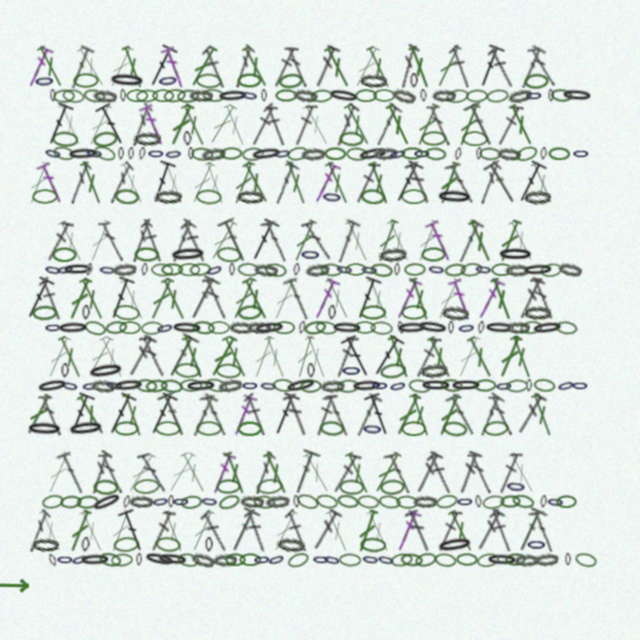chain: (90, 490, 124, 514), (87, 361, 125, 381), (436, 535, 474, 555), (67, 419, 105, 438), (108, 72, 146, 89), (169, 246, 207, 263), (284, 376, 318, 395), (143, 550, 176, 569), (327, 87, 360, 105), (357, 145, 390, 163), (36, 377, 69, 395), (436, 189, 473, 205), (26, 421, 63, 437), (416, 319, 449, 336), (497, 247, 534, 262), (250, 146, 283, 162), (253, 320, 286, 336), (531, 320, 564, 336), (379, 362, 407, 380), (217, 492, 242, 512), (286, 550, 311, 570), (112, 378, 145, 393), (156, 552, 189, 567), (378, 246, 407, 263), (419, 362, 448, 379), (276, 536, 305, 553), (92, 130, 119, 148), (561, 88, 593, 103), (92, 144, 117, 163), (514, 144, 539, 163), (295, 492, 320, 511), (278, 72, 304, 90), (391, 87, 417, 105), (507, 87, 533, 105), (442, 420, 468, 438), (190, 551, 216, 569), (113, 304, 140, 321), (174, 362, 201, 379), (133, 478, 160, 495), (256, 478, 283, 495), (113, 536, 140, 553), (217, 89, 249, 103), (67, 147, 99, 161), (523, 189, 551, 205), (522, 263, 554, 277), (441, 305, 469, 321), (57, 321, 89, 335), (171, 321, 203, 335), (331, 321, 363, 335), (396, 321, 428, 335), (484, 321, 516, 335), (185, 379, 217, 393), (351, 379, 383, 393), (79, 553, 111, 567), (486, 553, 518, 567), (114, 188, 140, 205), (360, 188, 386, 205), (216, 246, 242, 263), (557, 261, 583, 278), (237, 304, 263, 321), (217, 377, 243, 394), (319, 420, 345, 437), (483, 420, 509, 437), (155, 536, 181, 553), (83, 319, 107, 337), (574, 551, 598, 569), (359, 73, 387, 88), (133, 131, 161, 146), (154, 189, 182, 204), (236, 189, 264, 204), (523, 305, 551, 320), (31, 537, 59, 552), (196, 73, 222, 89), (52, 131, 78, 147), (196, 189, 222, 205), (62, 263, 94, 276), (420, 379, 452, 392), (450, 379, 482, 392), (360, 537, 386, 553), (52, 145, 76, 162), (286, 145, 310, 162), (303, 319, 327, 336), (204, 377, 228, 394), (41, 493, 65, 510), (315, 493, 339, 510), (336, 493, 360, 510), (435, 493, 459, 510), (511, 493, 535, 510), (98, 551, 122, 568), (414, 551, 438, 568), (524, 73, 549, 89), (339, 131, 364, 147), (201, 146, 226, 162), (305, 262, 330, 278), (32, 305, 57, 321), (216, 363, 241, 379), (93, 479, 118, 495), (339, 479, 364, 495), (380, 479, 405, 495), (73, 73, 99, 88), (421, 131, 447, 146), (462, 131, 488, 146), (32, 189, 58, 204), (401, 189, 427, 204), (360, 305, 386, 320), (401, 305, 427, 320), (155, 421, 181, 436), (196, 421, 222, 436), (476, 552, 500, 568), (204, 261, 225, 279), (237, 73, 262, 88), (293, 88, 318, 103), (373, 146, 398, 161), (52, 247, 77, 262), (134, 247, 159, 262), (421, 247, 446, 262), (112, 262, 137, 277), (114, 421, 139, 436), (237, 421, 262, 436), (401, 421, 426, 436), (216, 479, 241, 494), (265, 494, 290, 509), (534, 552, 559, 567), (157, 72, 179, 89), (505, 478, 527, 495), (62, 88, 85, 104), (83, 88, 106, 104), (446, 88, 469, 104), (486, 88, 509, 104), (264, 262, 287, 278), (370, 262, 393, 278), (444, 262, 467, 278), (540, 262, 563, 278), (315, 320, 338, 336), (555, 320, 578, 336), (160, 378, 183, 394), (408, 378, 431, 394), (180, 494, 203, 510), (357, 494, 380, 510), (378, 494, 401, 510), (482, 494, 505, 510), (177, 552, 200, 568), (390, 552, 413, 568), (434, 552, 457, 568), (266, 551, 287, 568), (321, 189, 343, 205), (320, 379, 345, 393), (163, 88, 186, 103), (202, 88, 225, 103), (550, 88, 573, 103), (189, 262, 212, 277), (237, 262, 260, 277), (460, 262, 483, 277), (105, 320, 128, 335), (192, 320, 215, 335), (520, 320, 543, 335), (135, 378, 158, 393), (272, 378, 295, 393), (440, 378, 463, 393), (533, 378, 556, 393), (43, 145, 63, 162), (556, 377, 576, 394), (70, 551, 90, 568), (34, 73, 55, 89), (93, 89, 117, 103), (301, 147, 325, 161), (497, 147, 521, 161), (254, 263, 278, 277), (505, 263, 529, 277), (91, 379, 115, 393), (362, 421, 383, 437), (213, 553, 237, 567), (514, 553, 538, 567), (310, 89, 333, 103), (424, 147, 447, 161), (320, 263, 343, 277), (370, 321, 393, 335), (145, 379, 168, 393), (76, 495, 99, 509), (253, 495, 276, 509), (400, 553, 423, 567), (388, 146, 408, 162), (43, 262, 63, 278), (155, 320, 175, 336), (60, 378, 80, 394), (388, 378, 408, 394), (322, 552, 342, 568), (376, 552, 396, 568), (300, 247, 321, 262), (341, 363, 362, 378), (526, 537, 547, 552), (189, 89, 213, 102), (432, 89, 456, 102), (229, 321, 253, 334), (247, 321, 271, 334), (506, 321, 530, 334), (129, 495, 153, 508), (240, 495, 264, 508), (413, 495, 437, 508), (53, 89, 75, 103), (136, 89, 158, 103), (177, 89, 199, 103), (466, 89, 488, 103), (191, 147, 213, 161), (242, 147, 264, 161), (346, 147, 368, 161), (479, 147, 501, 161), (151, 263, 173, 277), (141, 321, 163, 335), (300, 379, 322, 393), (337, 379, 359, 393), (506, 379, 528, 393), (60, 495, 82, 509), (396, 495, 418, 509), (111, 553, 133, 567), (339, 553, 361, 567), (126, 89, 148, 102), (152, 89, 174, 102), (275, 89, 297, 102), (355, 89, 377, 102), (373, 89, 395, 102), (220, 147, 242, 160), (324, 147, 346, 160), (401, 147, 423, 160), (548, 147, 570, 160), (161, 263, 183, 276), (178, 263, 200, 276), (345, 263, 367, 276), (404, 263, 426, 276), (491, 263, 513, 276), (119, 321, 141, 334), (208, 321, 230, 334), (273, 321, 295, 334), (354, 321, 376, 334), (180, 379, 202, 392), (474, 379, 496, 392), (239, 553, 261, 566), (456, 553, 478, 566), (240, 88, 259, 103), (85, 146, 104, 161), (273, 146, 292, 161), (56, 262, 75, 277), (335, 262, 354, 277), (427, 262, 446, 277), (474, 262, 493, 277), (105, 378, 124, 393), (151, 494, 170, 509), (200, 494, 219, 509), (361, 552, 380, 567), (500, 495, 521, 508), (556, 495, 577, 508), (225, 553, 246, 566), (505, 553, 526, 566), (164, 147, 183, 161), (98, 263, 117, 277), (360, 263, 379, 277), (457, 321, 476, 335), (81, 379, 100, 393), (259, 379, 278, 393), (546, 495, 565, 509), (495, 379, 513, 393), (525, 89, 543, 102), (147, 147, 165, 160), (413, 147, 431, 160), (572, 147, 590, 160), (44, 321, 62, 334), (241, 379, 259, 392), (371, 379, 389, 392), (571, 379, 589, 392), (172, 495, 190, 508), (456, 495, 474, 508), (56, 553, 74, 566), (253, 553, 271, 566), (312, 553, 330, 566), (48, 553, 58, 567), (183, 131, 192, 146), (81, 537, 90, 552), (122, 495, 131, 509), (410, 73, 418, 88), (82, 305, 90, 320), (328, 305, 336, 320), (61, 363, 69, 378), (307, 363, 315, 378), (205, 537, 213, 552), (454, 147, 462, 161), (138, 147, 146, 160), (85, 263, 93, 276), (298, 321, 306, 334), (397, 321, 405, 334), (477, 321, 485, 334), (420, 89, 427, 102), (540, 147, 547, 160), (141, 263, 148, 276), (293, 263, 300, 276), (293, 495, 300, 508), (475, 495, 482, 508), (540, 495, 547, 508), (50, 89, 56, 102), (120, 89, 126, 102), (261, 89, 267, 102), (548, 89, 554, 102), (118, 147, 124, 160), (128, 147, 134, 160), (188, 147, 194, 160), (476, 147, 482, 160), (229, 263, 235, 276), (394, 263, 400, 276), (448, 321, 454, 334), (526, 379, 532, 392), (168, 495, 174, 508), (136, 553, 142, 566), (565, 553, 571, 566)
double: (483, 159, 521, 206), (368, 333, 406, 380), (163, 333, 200, 380), (94, 101, 130, 148), (463, 101, 499, 148), (185, 275, 221, 322), (144, 43, 179, 90), (390, 159, 425, 206), (513, 159, 548, 206), (217, 217, 252, 264), (246, 217, 281, 264), (21, 275, 56, 322), (340, 333, 375, 380), (103, 391, 138, 438), (226, 507, 261, 554), (513, 507, 548, 554), (145, 391, 179, 438), (157, 391, 191, 438), (74, 44, 109, 89), (205, 102, 240, 147), (74, 392, 109, 437), (513, 392, 548, 437), (164, 450, 199, 495), (370, 102, 404, 148), (444, 160, 478, 206), (444, 392, 478, 438), (42, 101, 75, 148), (186, 44, 220, 89), (206, 218, 240, 263), (124, 334, 158, 379), (206, 334, 240, 379), (300, 450, 334, 495), (370, 450, 404, 495), (309, 508, 343, 553), (321, 44, 354, 90), (350, 44, 383, 90), (514, 44, 547, 90), (452, 218, 485, 264), (239, 276, 272, 322), (464, 334, 497, 380), (186, 392, 219, 438), (350, 392, 383, 438), (474, 43, 506, 90), (351, 275, 383, 322), (64, 391, 96, 438), (269, 391, 301, 438), (363, 391, 395, 438), (289, 449, 321, 496), (117, 507, 149, 554), (124, 451, 158, 495), (34, 44, 67, 89), (239, 44, 272, 89), (300, 102, 333, 147), (341, 102, 374, 147), (505, 218, 538, 263), (83, 334, 116, 379), (22, 392, 55, 437), (177, 450, 210, 495), (505, 450, 538, 495), (473, 508, 506, 553), (105, 44, 137, 90), (363, 44, 395, 90), (178, 102, 210, 148), (269, 160, 301, 206), (55, 218, 87, 264), (166, 218, 198, 264), (76, 276, 108, 322), (117, 276, 149, 322), (158, 276, 190, 322), (96, 334, 128, 380), (219, 334, 251, 380), (424, 334, 456, 380), (199, 392, 231, 438), (392, 392, 424, 438), (474, 392, 506, 438), (55, 450, 87, 496), (260, 450, 292, 496), (342, 450, 374, 496), (383, 450, 415, 496), (412, 450, 444, 496), (76, 508, 108, 554), (269, 508, 301, 554), (445, 508, 477, 554), (105, 275, 136, 322), (240, 160, 272, 205), (310, 160, 342, 205), (474, 276, 506, 321), (64, 44, 95, 90), (84, 102, 115, 148), (166, 102, 197, 148), (412, 102, 443, 148), (117, 160, 148, 206), (187, 160, 218, 206), (322, 160, 353, 206), (404, 160, 435, 206), (527, 160, 558, 206), (260, 218, 291, 264), (289, 218, 320, 264), (342, 218, 373, 264), (465, 218, 496, 264), (64, 276, 95, 322), (146, 276, 177, 322), (269, 276, 300, 322), (433, 276, 464, 322), (515, 276, 546, 322), (43, 334, 74, 380), (55, 334, 86, 380), (453, 334, 484, 380), (322, 392, 353, 438), (43, 450, 74, 496), (187, 508, 218, 554), (322, 508, 353, 554), (363, 508, 394, 554), (404, 508, 435, 554), (147, 159, 177, 206), (301, 219, 333, 263), (330, 451, 362, 495), (433, 44, 464, 89), (383, 102, 414, 147), (506, 102, 537, 147), (424, 218, 455, 263), (310, 276, 341, 321), (322, 276, 353, 321), (392, 276, 423, 321), (311, 44, 341, 90), (220, 102, 250, 148), (85, 218, 115, 264), (331, 218, 361, 264), (282, 276, 312, 322), (495, 334, 525, 380), (282, 392, 312, 438), (434, 392, 464, 438), (65, 508, 95, 554), (528, 508, 558, 554), (486, 45, 517, 89), (137, 451, 168, 495), (199, 509, 230, 553), (24, 44, 54, 89), (138, 102, 168, 147), (36, 160, 66, 205), (384, 218, 414, 263), (229, 276, 259, 321), (36, 508, 66, 553), (405, 44, 434, 90), (454, 102, 483, 148), (24, 160, 53, 206), (77, 160, 106, 206), (229, 160, 258, 206), (282, 160, 311, 206), (413, 218, 442, 264), (495, 218, 524, 264), (364, 276, 393, 322), (487, 276, 516, 322), (179, 334, 208, 380), (249, 334, 278, 380), (261, 334, 290, 380), (302, 334, 331, 380), (507, 334, 536, 380), (229, 392, 258, 438), (528, 392, 557, 438), (208, 450, 237, 496), (106, 508, 135, 554), (159, 508, 188, 554), (527, 45, 558, 88), (44, 219, 74, 263), (179, 219, 209, 263), (425, 451, 455, 495), (56, 102, 85, 147), (393, 508, 422, 553), (119, 44, 147, 90), (160, 44, 188, 90), (160, 160, 188, 206), (201, 160, 229, 206), (365, 160, 393, 206), (435, 160, 463, 206), (373, 218, 401, 264), (406, 276, 434, 322), (447, 276, 475, 322), (385, 334, 413, 380), (119, 392, 147, 438), (406, 392, 434, 438), (221, 450, 249, 496), (455, 450, 483, 496), (353, 508, 381, 554), (200, 45, 229, 89), (249, 103, 278, 147), (331, 103, 360, 147), (495, 103, 524, 147), (106, 161, 135, 205), (413, 335, 442, 379), (271, 44, 299, 89), (353, 160, 381, 205), (37, 276, 65, 321), (242, 392, 270, 437), (148, 508, 176, 553), (283, 508, 311, 553), (435, 508, 463, 553), (98, 219, 126, 263), (447, 44, 474, 89), (262, 102, 289, 147), (139, 218, 166, 263), (139, 334, 166, 379), (86, 450, 113, 495), (496, 450, 523, 495), (488, 508, 515, 553), (292, 334, 318, 380), (426, 103, 453, 147), (66, 161, 93, 205), (476, 161, 503, 205), (488, 393, 515, 437), (98, 451, 125, 495), (467, 451, 494, 495), (25, 509, 52, 553), (284, 44, 310, 89), (292, 102, 318, 147), (202, 276, 228, 321), (333, 334, 359, 379), (243, 508, 269, 553), (128, 103, 154, 147), (128, 219, 154, 263), (38, 393, 64, 437), (251, 451, 277, 495), (231, 44, 256, 89), (395, 44, 420, 89), (530, 276, 555, 321), (313, 392, 338, 437)
noise: (0, 578, 31, 593)
